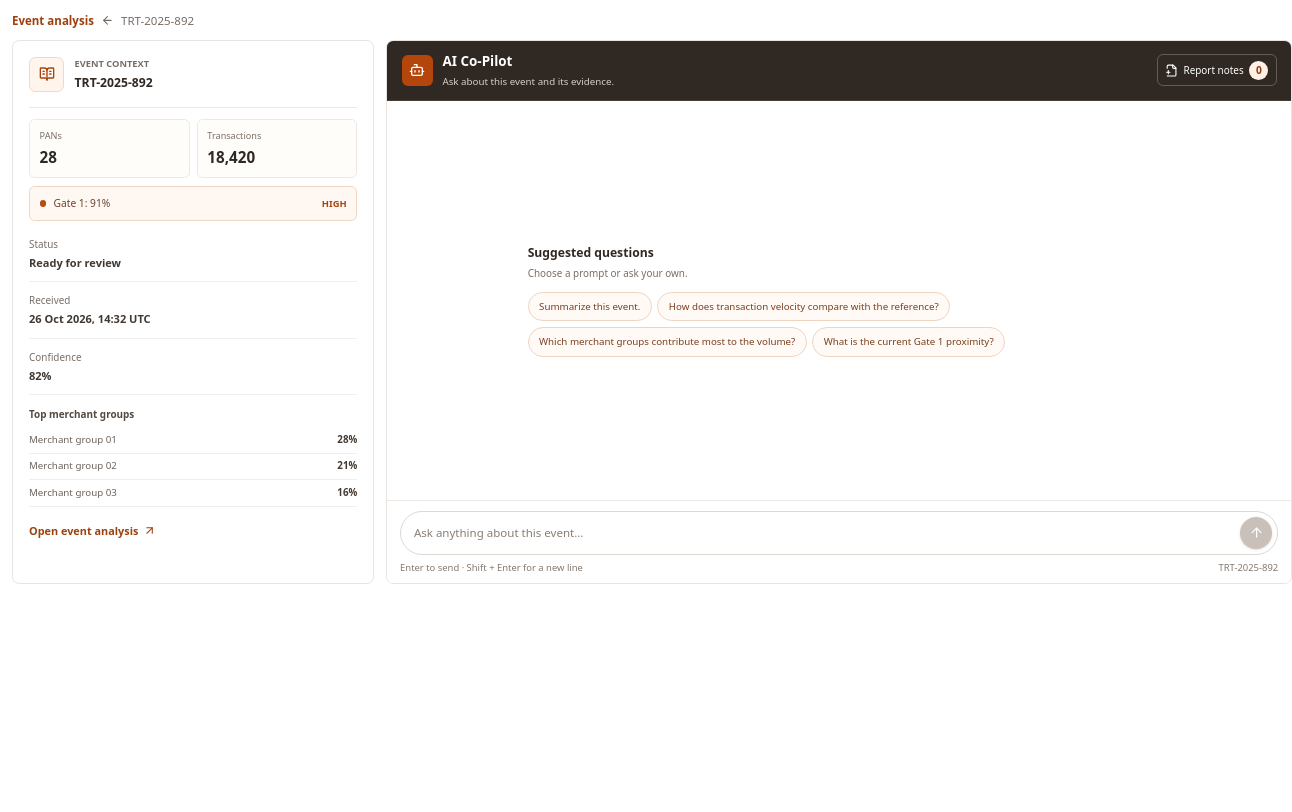
Test: CopilotPage › shows event-linked evidence and bounds unsupported questions
The width and height of the screenshot is (1292, 812).
Click the button "How does transaction velocity compare with the reference?" at coordinates (804, 306), box [657,292,950,321]
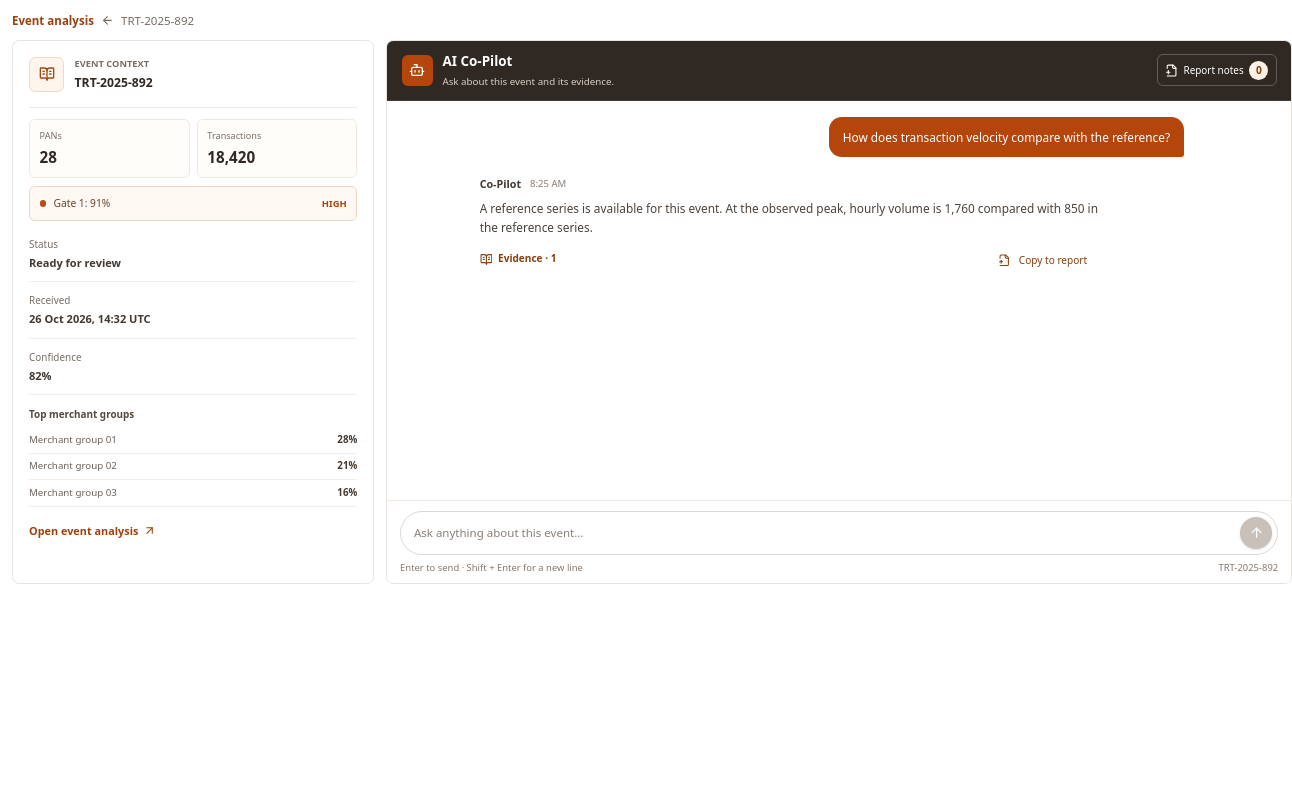
Expected: the text "A reference series is available for this event" is shown, [480,200,1101,235]
Click the heading "Evidence · 1" at coordinates (518, 259), box [480,251,556,266]
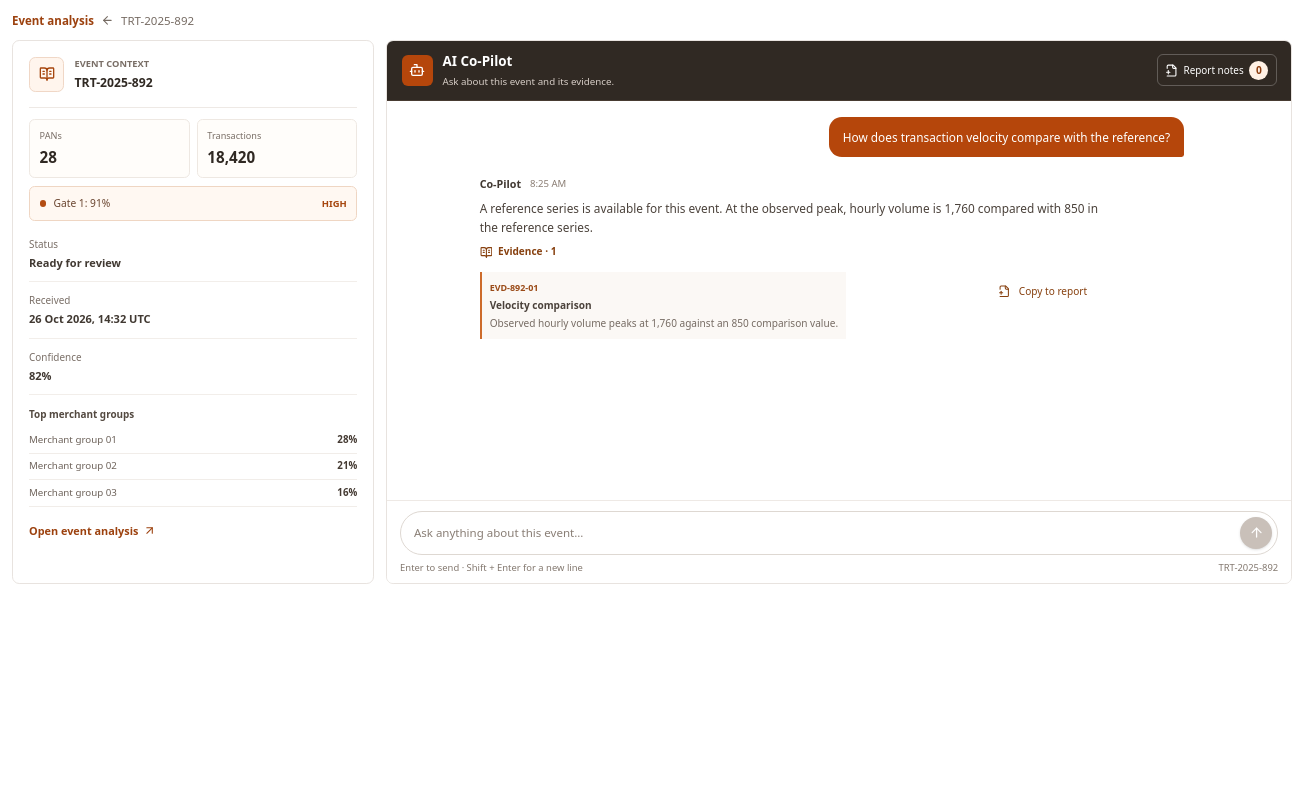
Expected: the text "Velocity comparison" is shown, [490,298,592,312]
Type "What is the weather tomorrow?" into the text box named "Ask about this event" at coordinates (824, 533), box [414,519,1233,547]
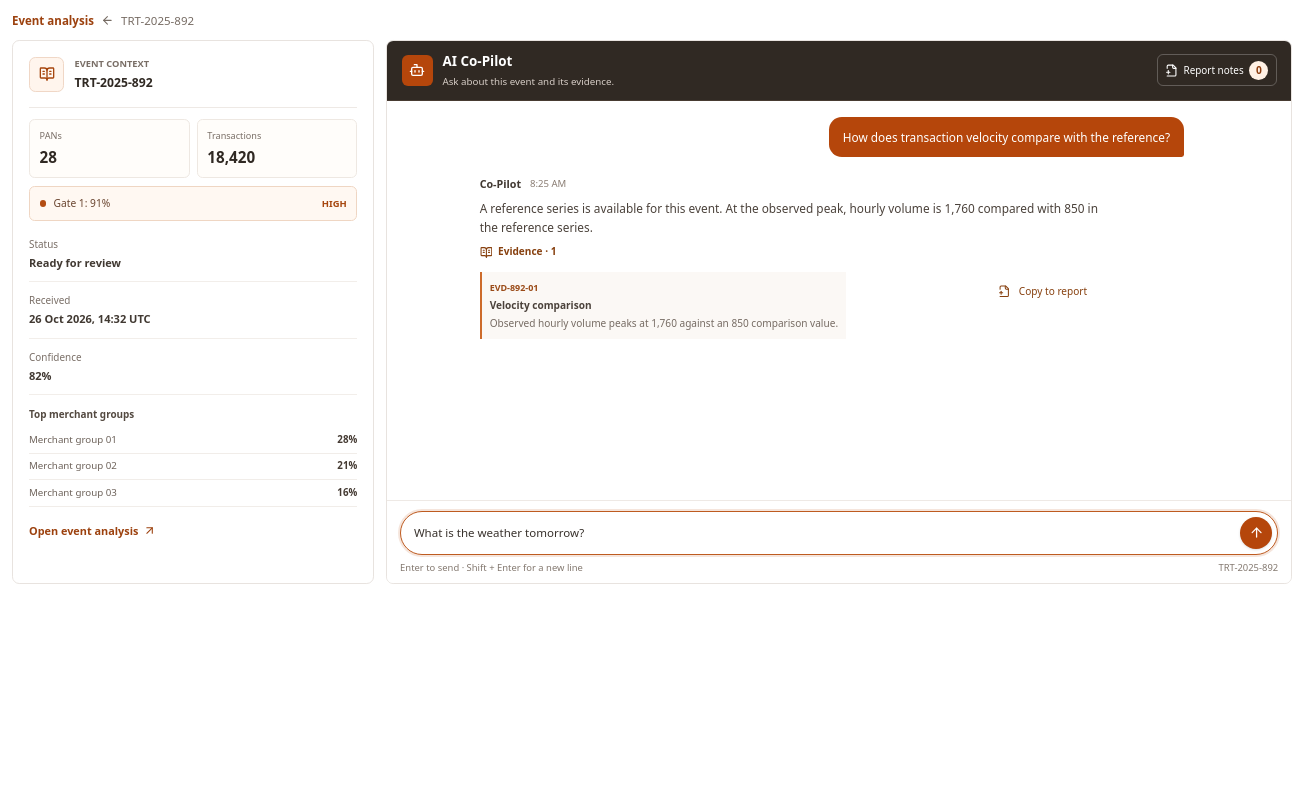
Click the button named "Send message" at coordinates (1256, 533), box [1240,517,1272,549]
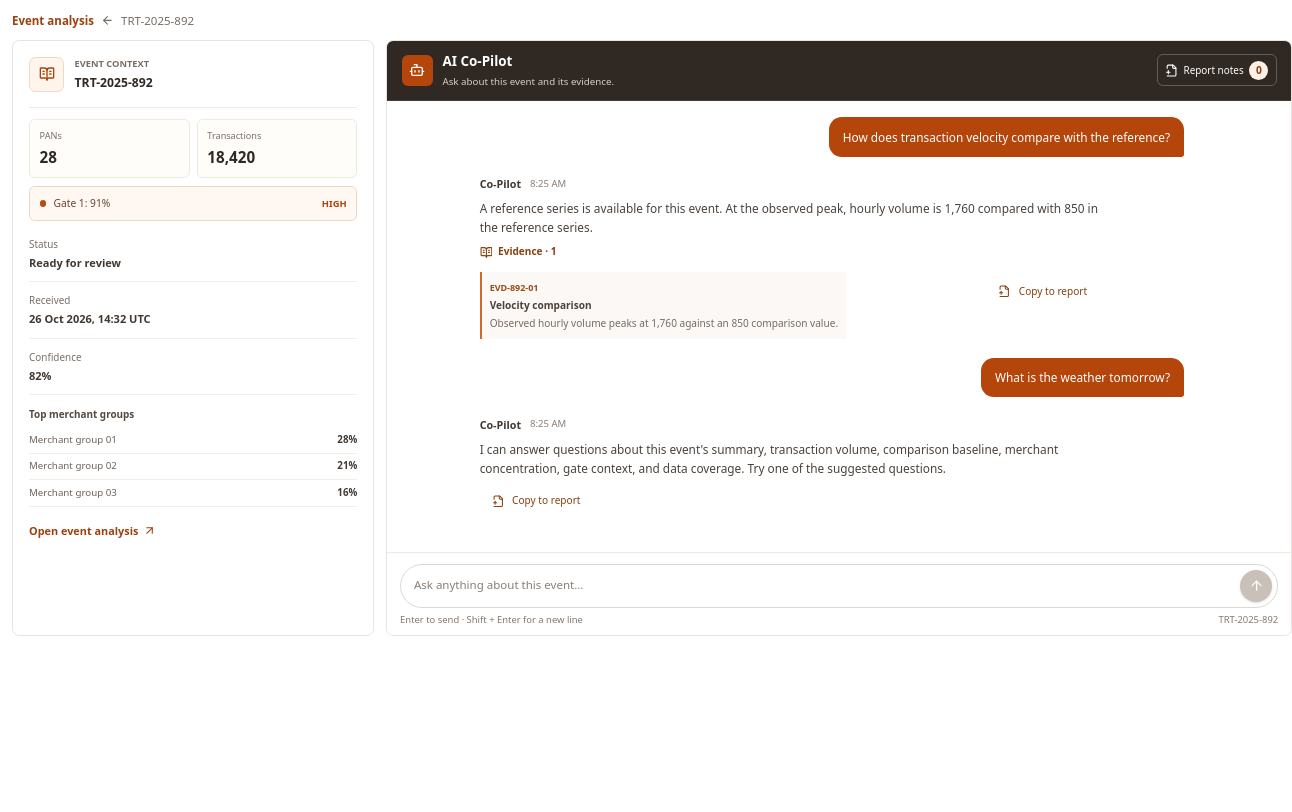
Expected: the text "I can answer questions about this event" is shown, [480,441,1061,476]
Expected: the number of list items with class "message-assistant" is 2, [480,173,1099,342]; [480,413,1099,520]
